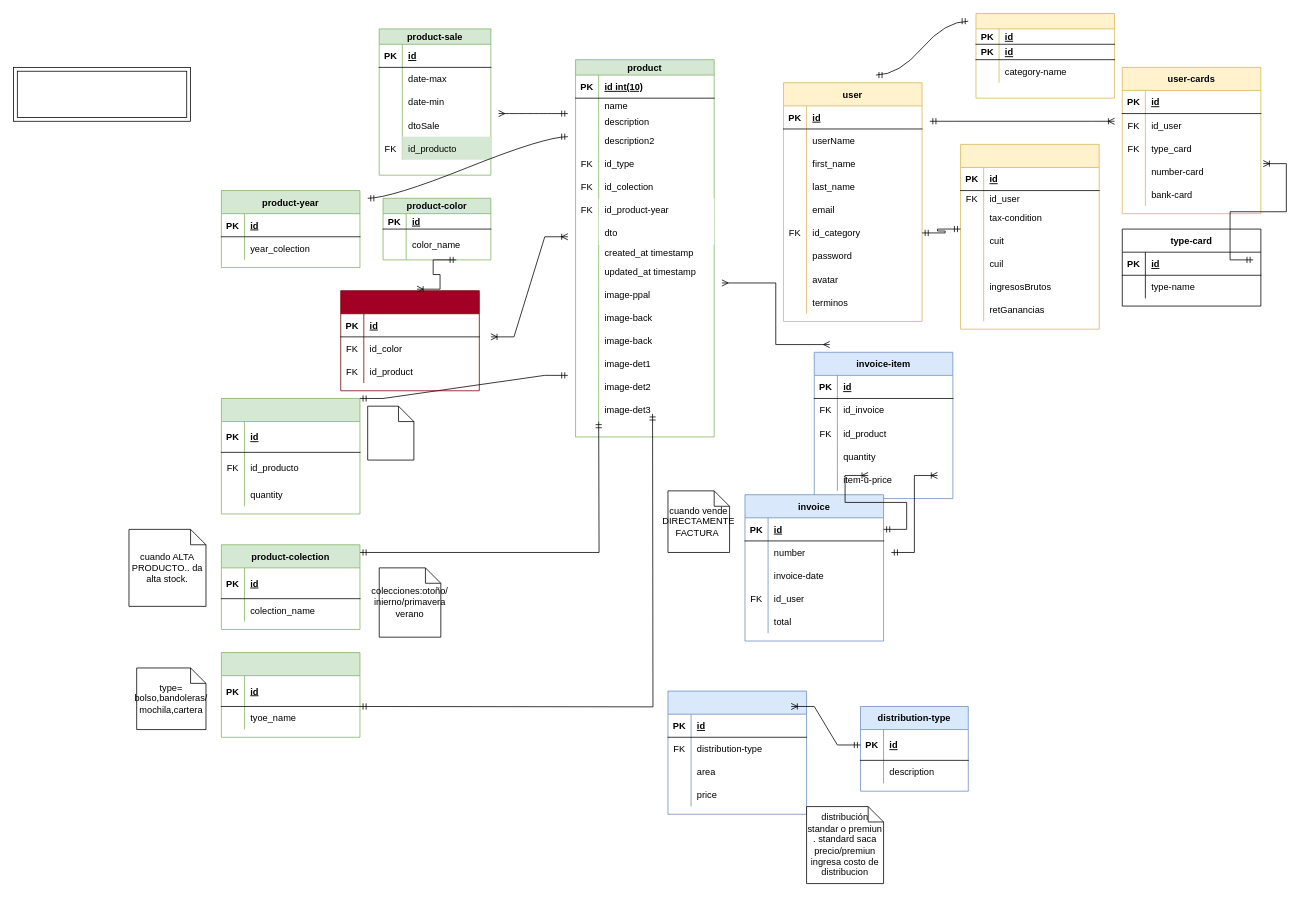
Image size: 1307x897. Some labels were removed from this diagram. Here are the shapes that lost their labels. From the top down, the box of each, then its label:
(975, 13, 1115, 98): user-category
(13, 67, 191, 121): BASE DE DATOS "FAUSTIN "
(960, 144, 1099, 329): user-taxes
(340, 290, 479, 391): product-color-product
(367, 405, 414, 460): cuando vende,baja stock
(221, 398, 360, 514): product-stock
(221, 652, 360, 737): product-type
(667, 690, 807, 814): distribution-standard
